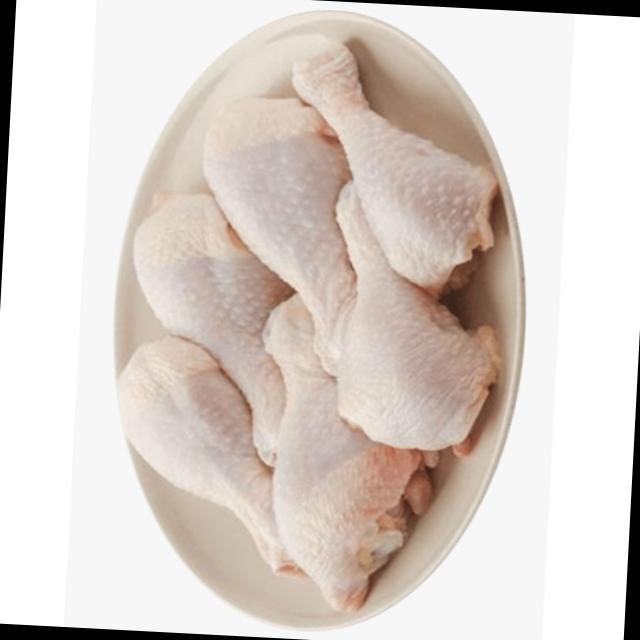chicken: (118, 29, 503, 604), (280, 35, 508, 302), (244, 294, 434, 608), (114, 338, 321, 582), (318, 182, 500, 458), (126, 200, 317, 461), (196, 97, 364, 343)
